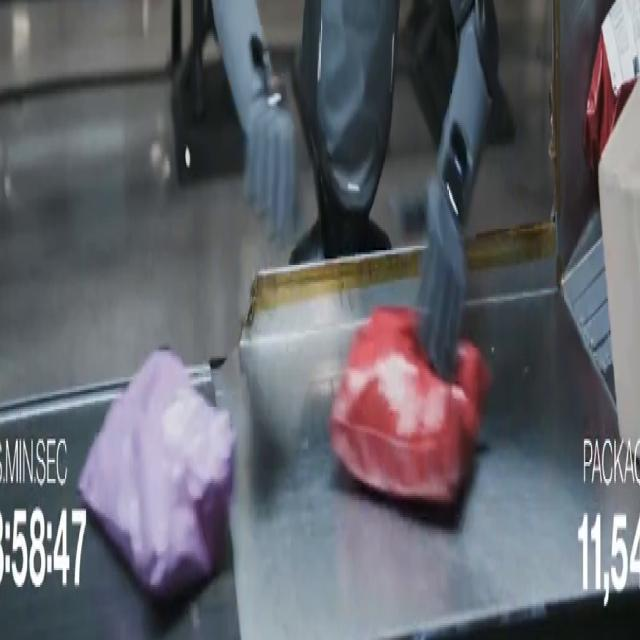package: (79, 350, 235, 599), (330, 308, 490, 504), (599, 85, 639, 442), (584, 0, 639, 173)
